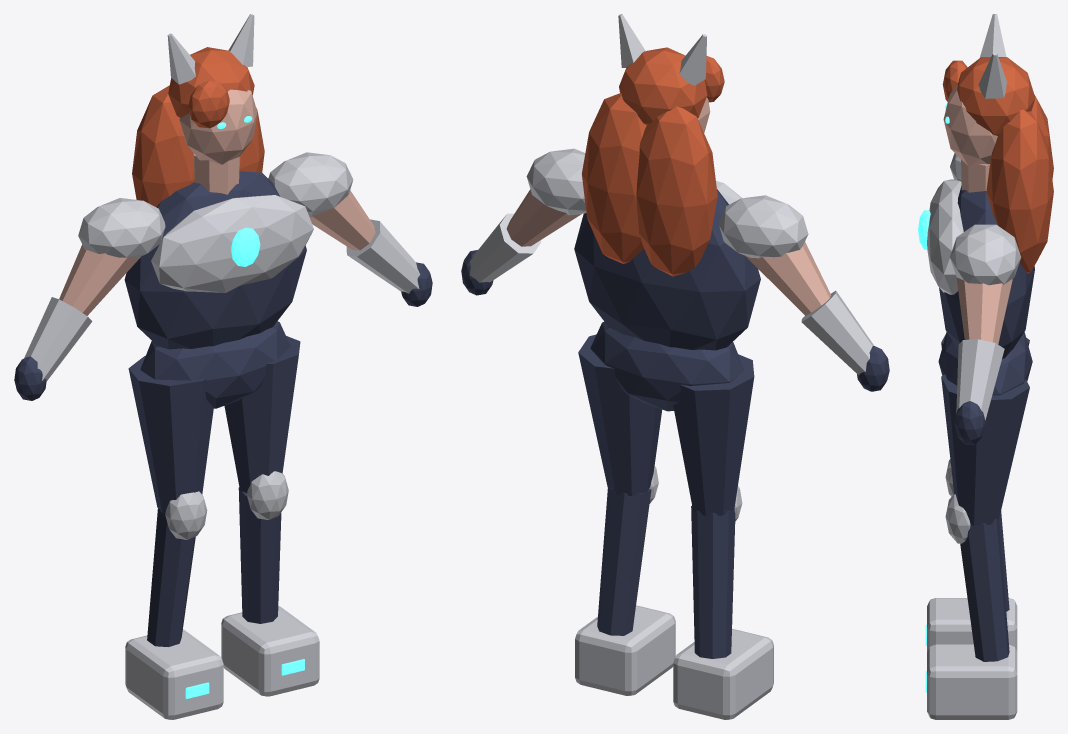
File: SM_Leona.fbx
3 views of the same model, side by side, from view 1: azimuth 30°, elevation 25°; view 2: azimuth 150°, elevation 25°; view 3: azimuth 270°, elevation 25° (orthographic). The views are drawn at different scales.
Parts seen in each view (by area): view 1: SM_Leona; view 2: SM_Leona; view 3: SM_Leona.
Boxes of the visible parts, left/top/right/bottom form: SM_Leona: left=14, top=14, right=432, bottom=719; SM_Leona: left=461, top=14, right=889, bottom=719; SM_Leona: left=918, top=14, right=1053, bottom=719.
Bounding box in the file's own units: 121 × 34.6 × 183.
